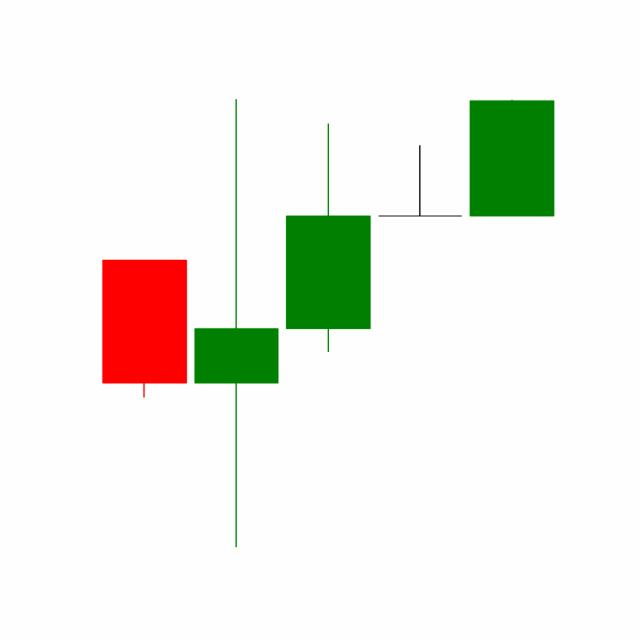Marubozu: (464, 97, 558, 217)
